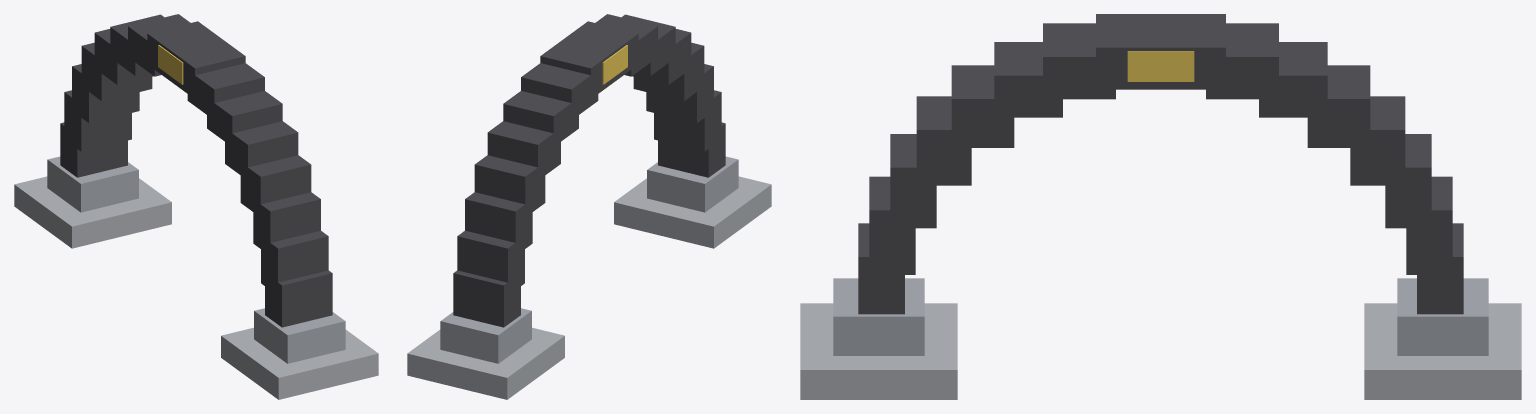
File: prop_grab_loop.glb
The picture shows the model from 3 angles, left to right: view 1: azimuth 30°, elevation 25°; view 2: azimuth 150°, elevation 25°; view 3: azimuth 270°, elevation 25°; orthographic projection. The views are drawn at different scales.
Parts seen in each view (by area): view 1: prop_grab_loop; view 2: prop_grab_loop; view 3: prop_grab_loop.
Part boxes in pixels (x1=…): prop_grab_loop: x1=14, y1=14, x2=378, y2=399; prop_grab_loop: x1=407, y1=14, x2=771, y2=399; prop_grab_loop: x1=800, y1=14, x2=1521, y2=399.
Size of the model in its own units: 0.095 by 0.2234 by 0.435.
